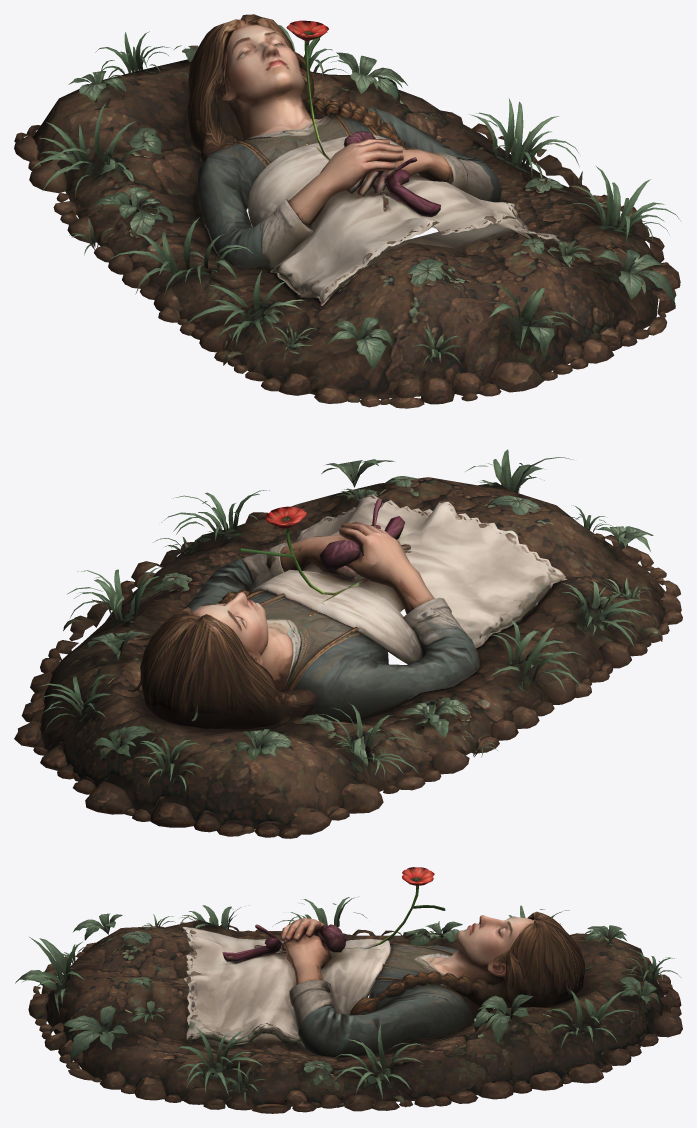
Rendered from act1-a20-1-sleeper-young-woman.glb.
3 renders of one model, top to bottom at view 1: azimuth 30°, elevation 25°; view 2: azimuth 150°, elevation 25°; view 3: azimuth 270°, elevation 25°, orthographic. The views are drawn at different scales.
Parts seen in each view (by area): view 1: act1-a20-1-sleeper-young-woman; view 2: act1-a20-1-sleeper-young-woman; view 3: act1-a20-1-sleeper-young-woman.
Boxes of the visible parts, bbox=[...] form: act1-a20-1-sleeper-young-woman: bbox=[14, 14, 680, 408]; act1-a20-1-sleeper-young-woman: bbox=[14, 449, 682, 838]; act1-a20-1-sleeper-young-woman: bbox=[15, 867, 682, 1113].
Bounding box in the file's own units: 1.41 × 0.5352 × 2.1.
1 material, 1 textured.
